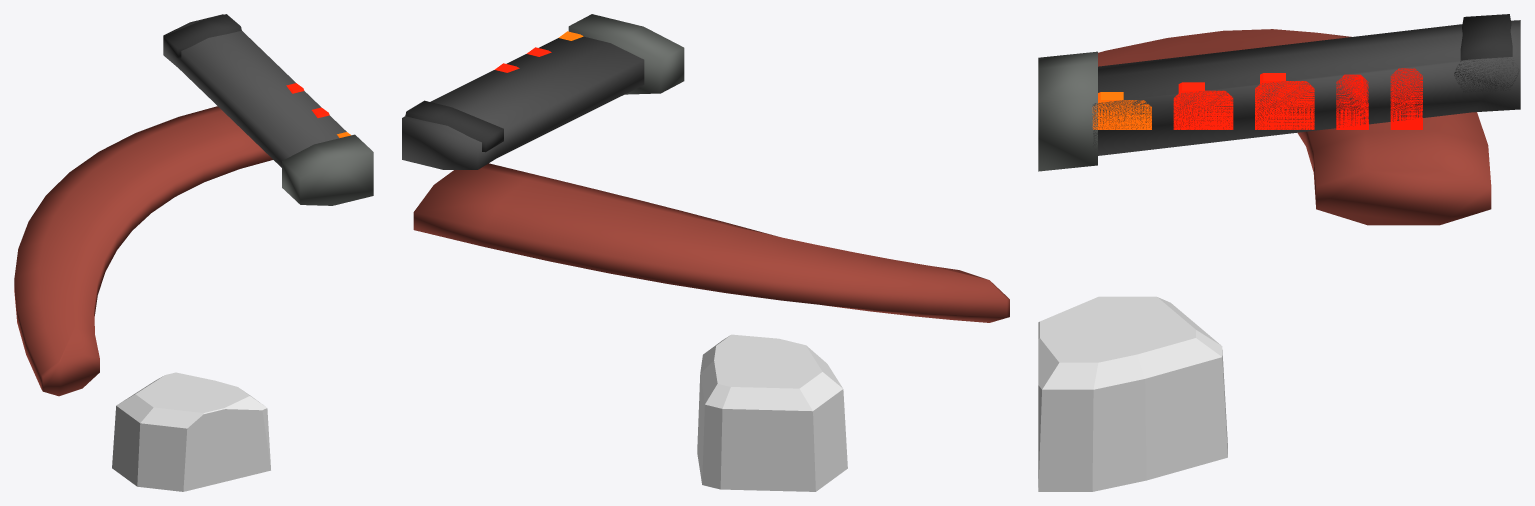
The model's file is newshi-3.glb.
3 views of the same model, side by side, from view 1: azimuth 30°, elevation 25°; view 2: azimuth 150°, elevation 25°; view 3: azimuth 270°, elevation 25° (orthographic). The views are drawn at different scales.
Visible parts, largest first — view 1: newshi-3; view 2: newshi-3; view 3: newshi-3.
Part boxes in pixels (x1,y1,x2,y2): newshi-3: [14, 14, 373, 491]; newshi-3: [402, 14, 1009, 491]; newshi-3: [1038, 14, 1520, 491].
Bounding box in the file's own units: 1.88 × 1.76 × 1.48.
